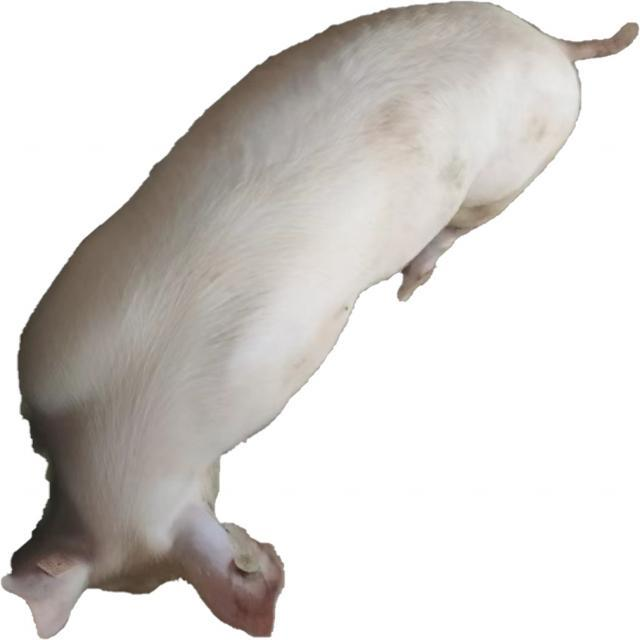pig: (2, 2, 636, 637)
